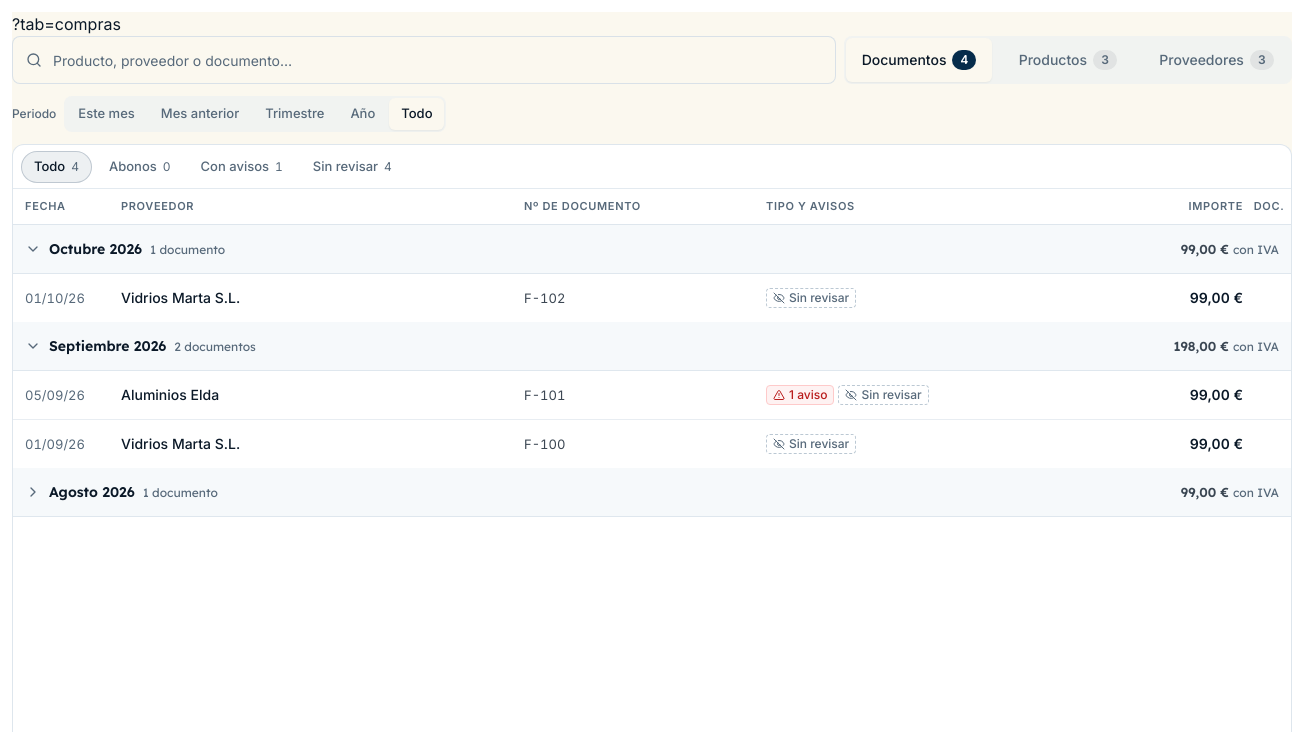
Test: Compras · buscador único y selector con contadores › el mismo texto filtra la lista del modo que estés mirando
The image size is (1304, 732).
Later steps or results of the test are not shown.
Expected: the text "F-100" is shown, [524, 436, 565, 452]
In the search field named "Buscar en compras": (424, 60) [12, 36, 836, 84], type "espejo"
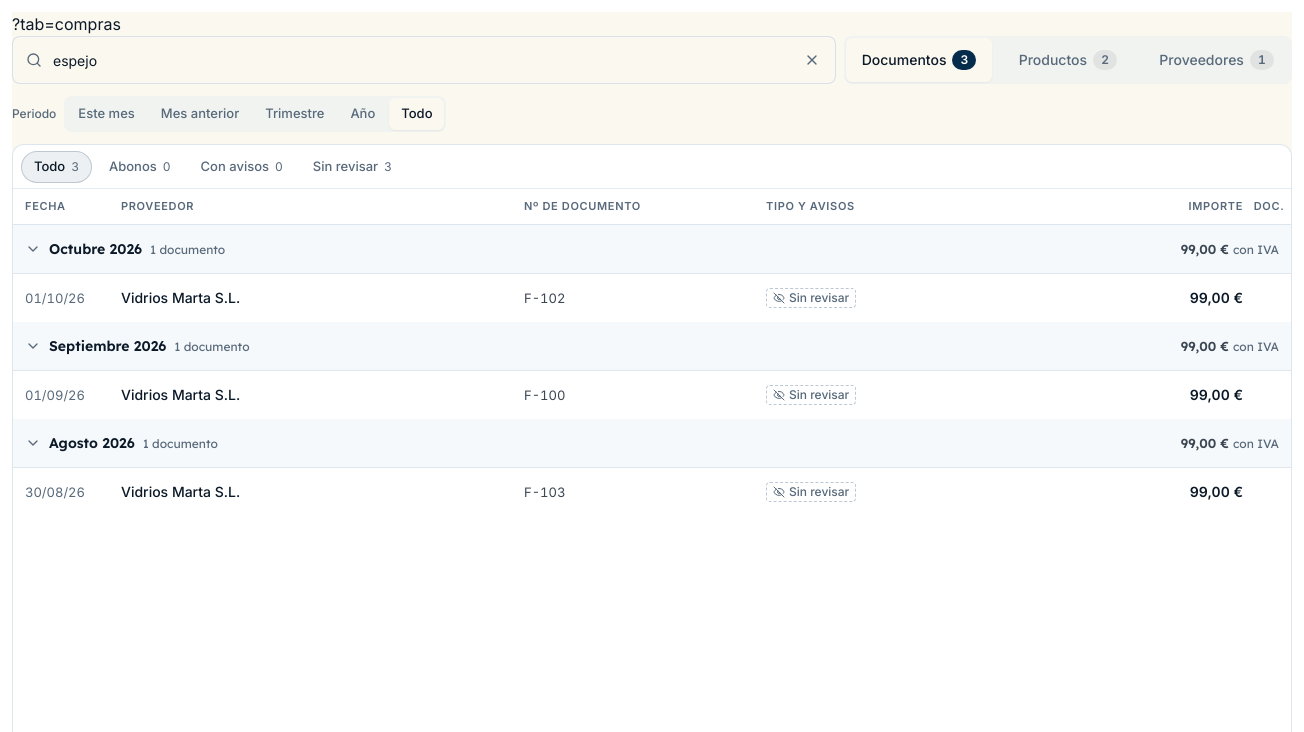
Now the button "F-101" is gone
Click the button "Productos 2": click(1068, 60) [994, 38, 1141, 82]
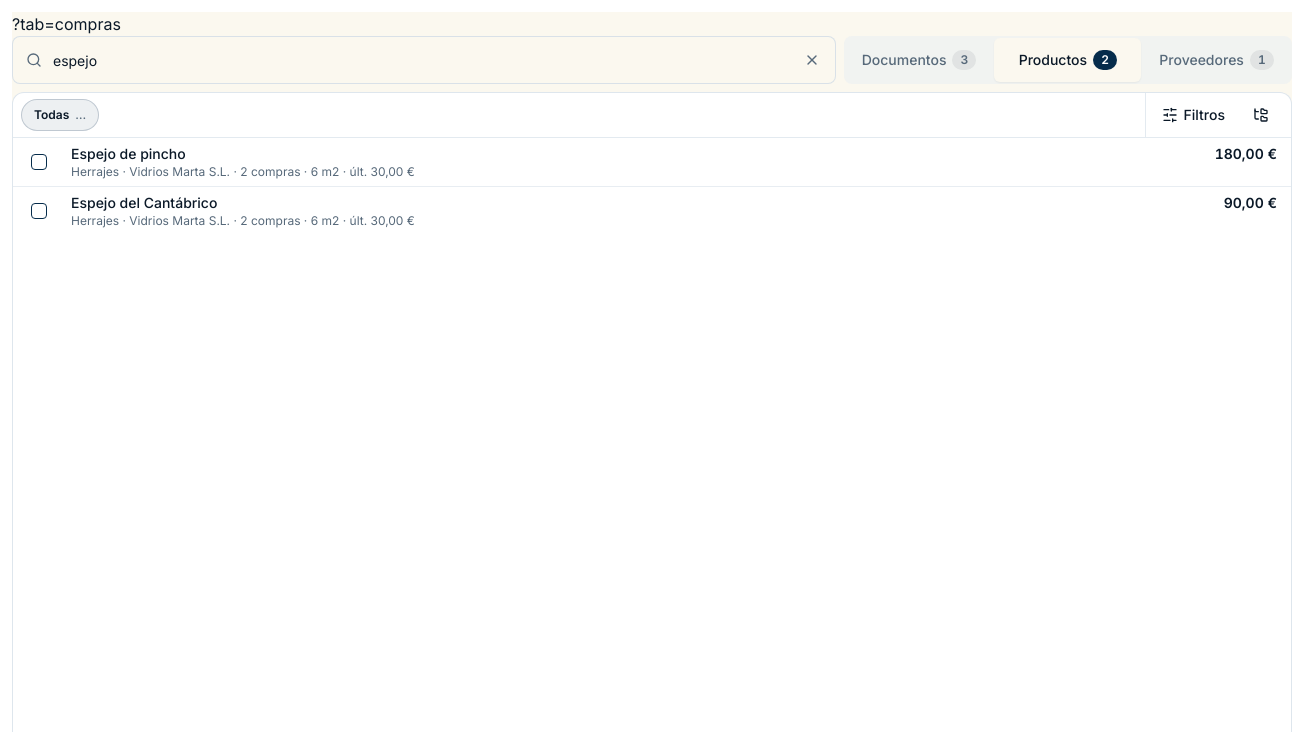
Now the text "Espejo de pincho" is shown, box [71, 144, 186, 164]
Now the text "Espejo del Cantábrico" is shown, box [71, 193, 217, 213]
